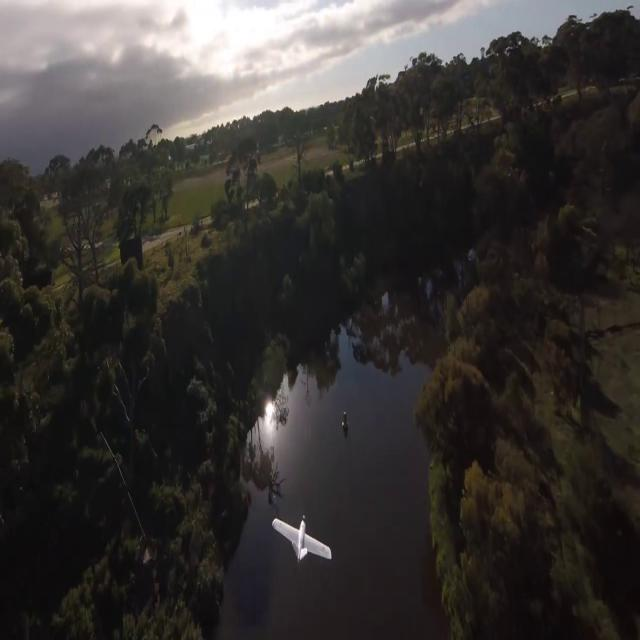iha: (270, 513, 333, 563)
